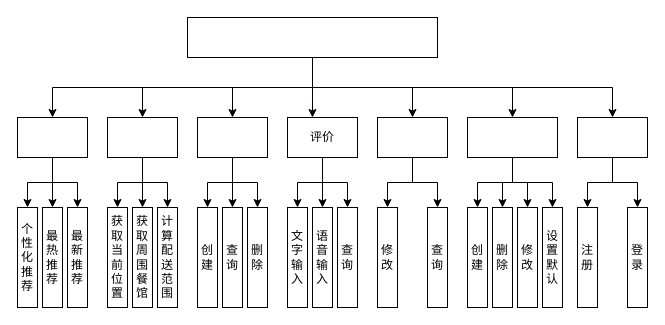
The diagram is 665 pixels wide and 325 high, and some of its shapes have lost their labels. Here are the shapes that lost their labels. From the top down, the centre of each, then its label:
point 312,37: 外卖订餐系统
point 52,137: 推荐系统
point 142,137: LBS服务
point 232,137: 订单
point 412,137: 个人信息
point 512,137: 地址管理
point 612,137: 登录/注册
